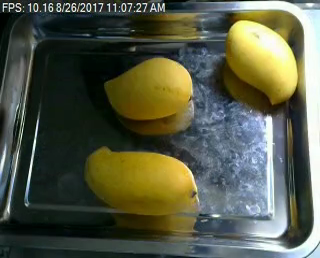Mango: (80, 139, 202, 220), (223, 17, 302, 107), (100, 54, 196, 120)
